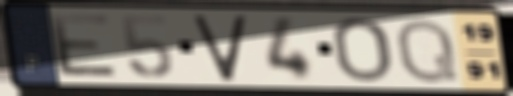4: (261, 14, 321, 84)
5: (118, 13, 174, 80)
E: (46, 11, 123, 80)
O: (329, 15, 395, 84)
Q: (393, 16, 462, 86)
V: (190, 13, 249, 84)
